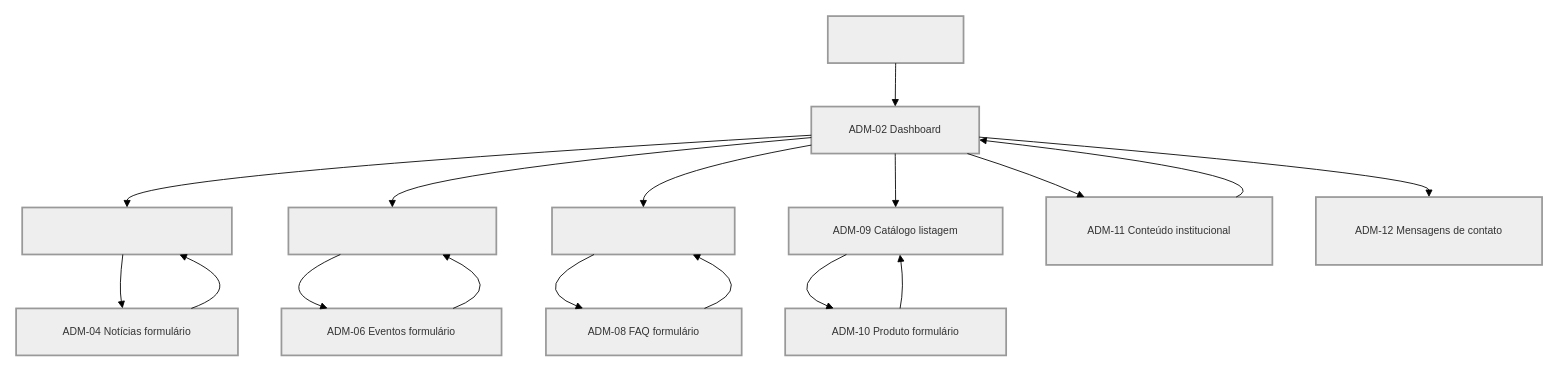
This 1557x371 diagram has some shape labels left out. The centre of each missing label's shape, as x and y in pixels:
ADM-01 Login: point (895, 39)
ADM-03 Notícias listagem: point (126, 230)
ADM-05 Eventos listagem: point (392, 230)
ADM-07 FAQ listagem: point (643, 230)
